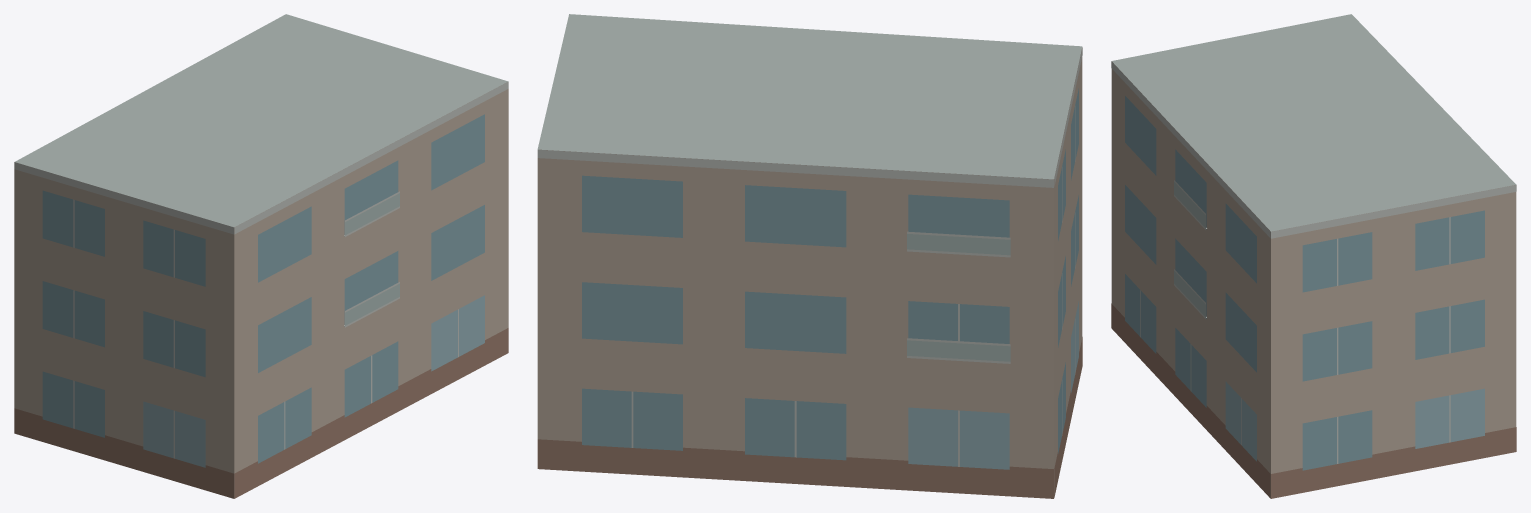
The model's file is survey-upis-32871554.glb.
3 views of the same model, side by side, from view 1: azimuth 30°, elevation 25°; view 2: azimuth 150°, elevation 25°; view 3: azimuth 270°, elevation 25° (orthographic). The views are drawn at different scales.
Parts seen in each view (by area): view 1: survey-upis-32871554.tmp; view 2: survey-upis-32871554.tmp; view 3: survey-upis-32871554.tmp.
Boxes of the visible parts, x1,y1,x2,y2 form: survey-upis-32871554.tmp: [14, 14, 508, 498]; survey-upis-32871554.tmp: [537, 14, 1082, 498]; survey-upis-32871554.tmp: [1111, 14, 1516, 498].
Bounding box in the file's own units: 15.99 × 9.15 × 12.58.
